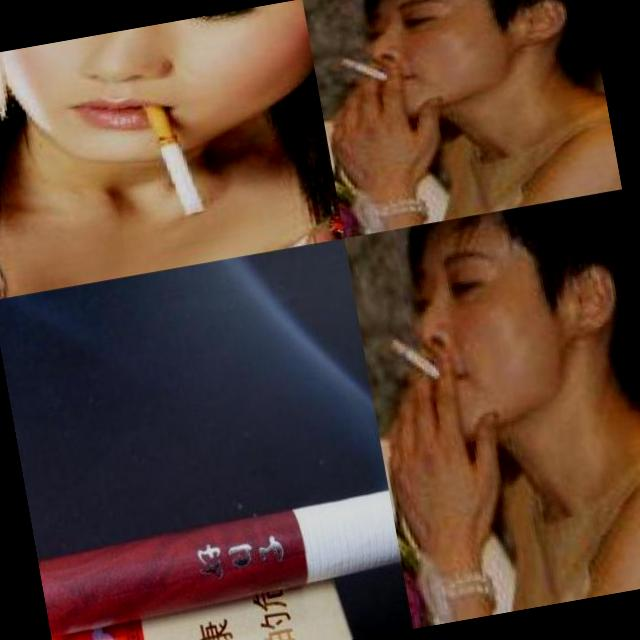smoke: (35, 488, 402, 638), (142, 94, 208, 222), (372, 314, 446, 393), (324, 41, 392, 92)
